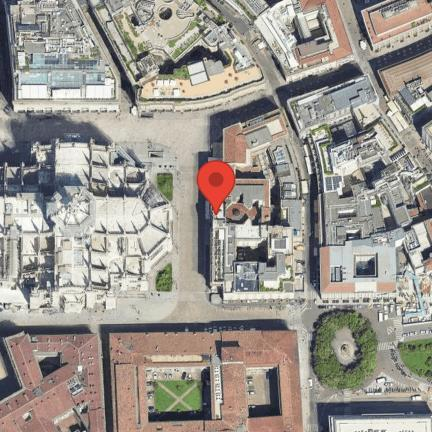area_open: (298, 313, 432, 408), (121, 118, 216, 233), (124, 226, 208, 315), (0, 113, 46, 162)
built: (0, 142, 174, 290), (109, 331, 304, 432), (89, 0, 268, 108), (6, 0, 122, 110), (0, 334, 104, 432), (233, 0, 355, 79), (323, 167, 411, 246), (213, 225, 303, 299), (315, 121, 408, 192), (240, 141, 306, 227), (291, 75, 379, 137), (212, 143, 272, 228), (320, 232, 396, 296), (224, 109, 293, 165), (362, 0, 432, 48), (391, 83, 432, 153), (381, 49, 432, 97), (329, 414, 432, 432), (391, 151, 430, 196), (402, 219, 432, 276), (330, 113, 363, 147), (356, 101, 387, 132), (306, 126, 333, 155)
